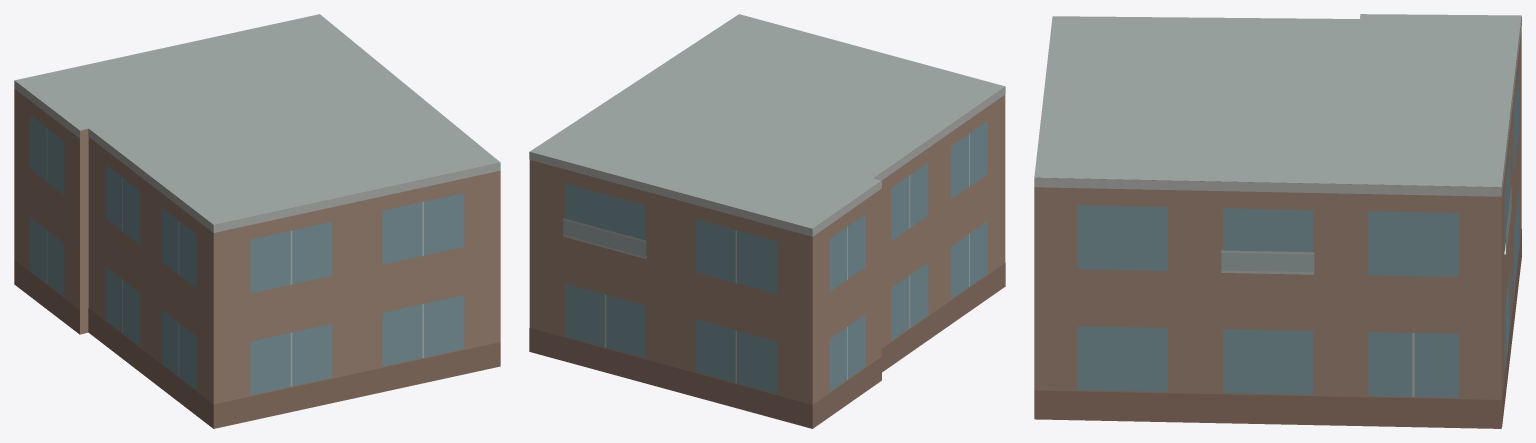
File: survey-upis-32997469.glb
3 renders of one model, left to right at view 1: azimuth 30°, elevation 25°; view 2: azimuth 150°, elevation 25°; view 3: azimuth 270°, elevation 25°, orthographic. The views are drawn at different scales.
Parts seen in each view (by area): view 1: survey-upis-32997469.tmp; view 2: survey-upis-32997469.tmp; view 3: survey-upis-32997469.tmp.
Boxes of the visible parts, x1,y1,x2,y2 form: survey-upis-32997469.tmp: [14, 14, 500, 428]; survey-upis-32997469.tmp: [529, 14, 1005, 428]; survey-upis-32997469.tmp: [1034, 14, 1521, 428].
Size of the model in its own units: 9.38 by 6.1 by 11.16.
